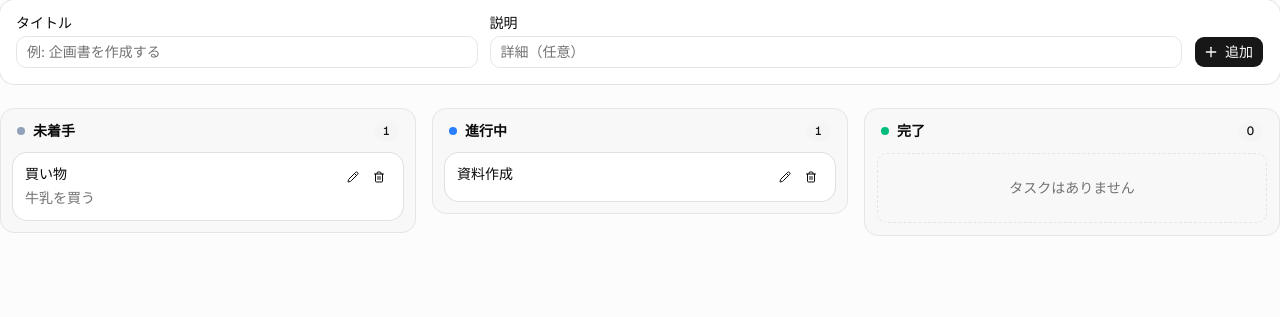
Scenario: 追加 › 追加に失敗するとエラーが表示され追加したタスクが消える
This screenshot has width=1280, height=317.
Type "掃除" into the field labelled "タイトル" at (247, 52), box [16,36,478,68]
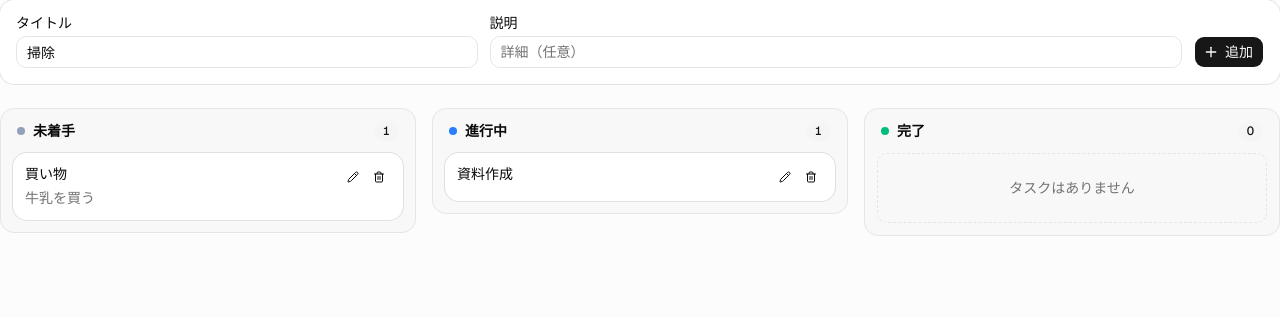
Click the button "追加" at (1229, 52), box [1194,36,1264,68]
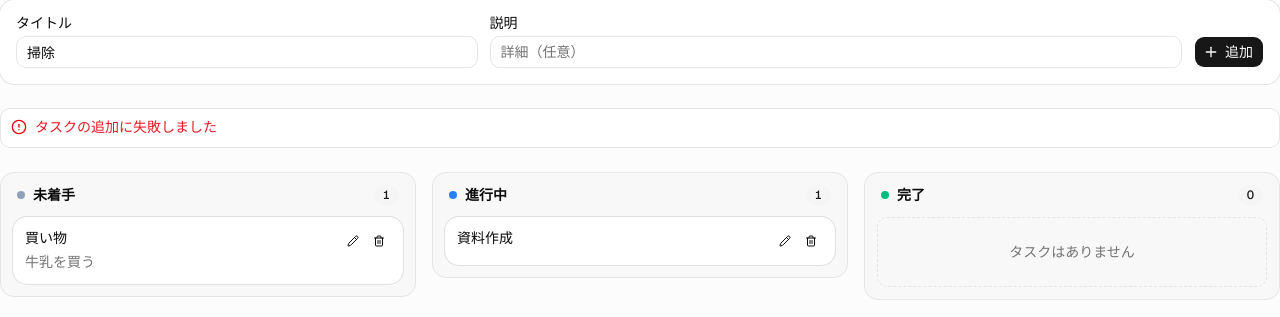
Now the message reads "タスクの追加に失敗しました", box [35,118,217,136]
